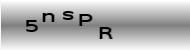5: (24, 19, 38, 32)
P: (78, 13, 92, 26)
R: (98, 26, 113, 40)
n: (42, 12, 55, 23)
s: (62, 10, 74, 21)
